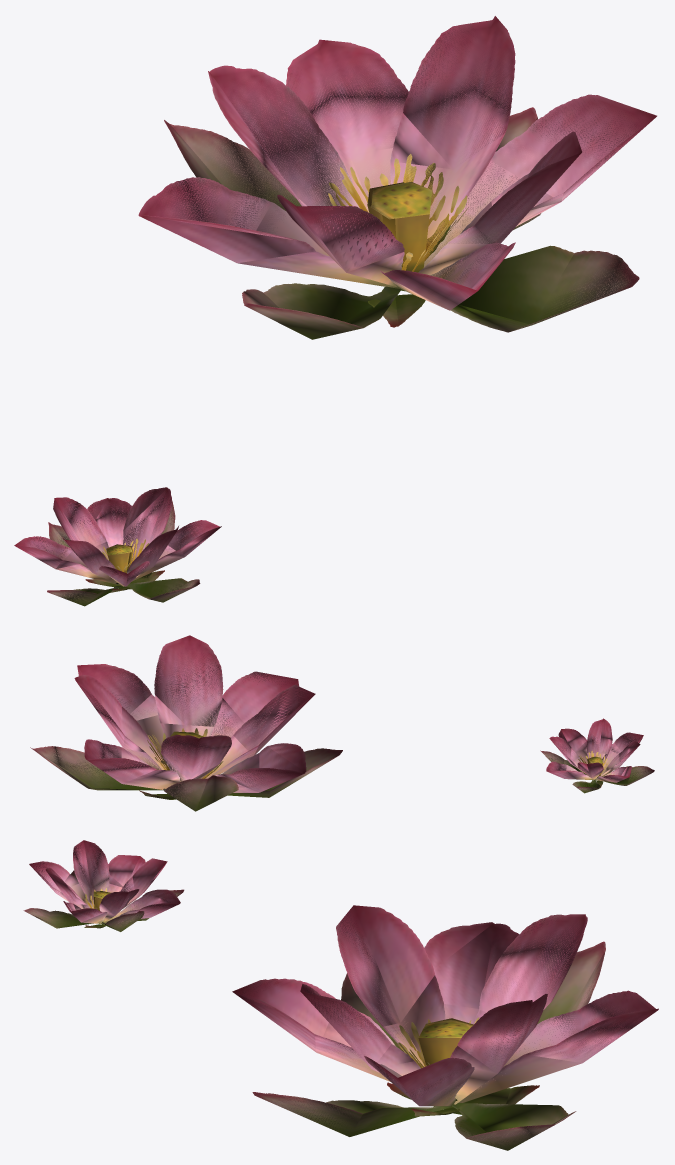
File: mesh_qingming_lotus01.FBX
The picture shows the model from 3 angles, top to bottom: view 1: azimuth 30°, elevation 25°; view 2: azimuth 150°, elevation 25°; view 3: azimuth 270°, elevation 25°; orthographic projection. The views are drawn at different scales.
Visible parts, largest first — view 1: mesh_qingming_lotus01; view 2: mesh_qingming_lotus01; view 3: mesh_qingming_lotus01.
Part boxes in pixels (bbox=[...]): mesh_qingming_lotus01: bbox=[14, 16, 656, 606]; mesh_qingming_lotus01: bbox=[30, 635, 654, 811]; mesh_qingming_lotus01: bbox=[23, 840, 658, 1150].
Bounding box in the file's own units: 7.71 × 1.99 × 6.53.
1 material, 1 textured.
